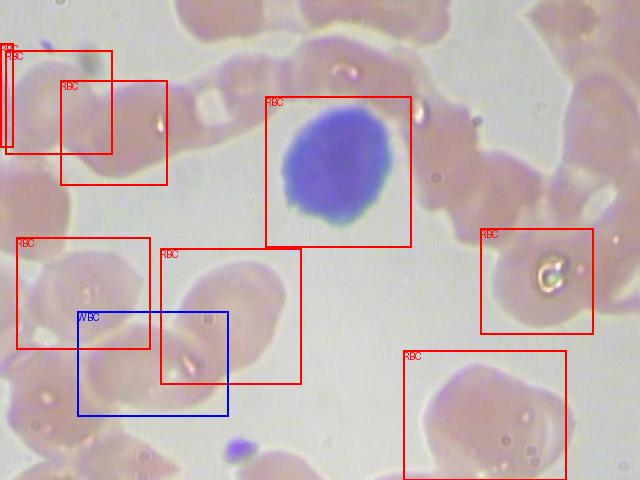RBC: (265, 96, 411, 247), (403, 350, 566, 480), (160, 248, 301, 384), (16, 237, 150, 349), (480, 228, 593, 334), (60, 80, 167, 185), (5, 50, 112, 154), (0, 43, 13, 147)
WBC: (77, 311, 228, 416)
